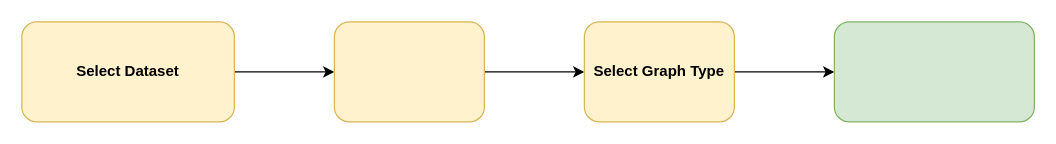
The diagram is 1056 pixels wide and 144 high, and some of its shapes have lost their labels. The centre of each missing label's shape, as x and y in pixels:
"Generate Graph" goes at (933,71).
"Select X and Y columns" goes at (408,71).
